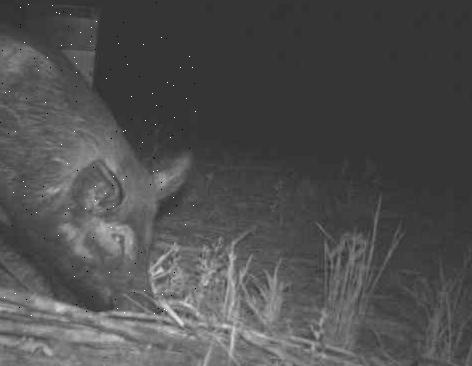Hog: (0, 0, 197, 316)
